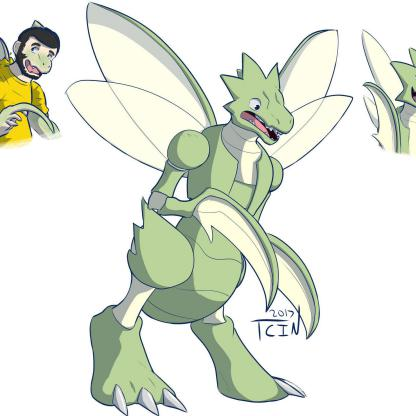Scyther: (33, 1, 416, 416)
